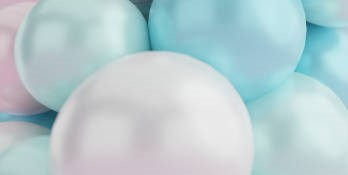Balloon: (49, 52, 251, 175), (13, 1, 150, 112), (150, 1, 306, 90), (247, 71, 348, 175)
